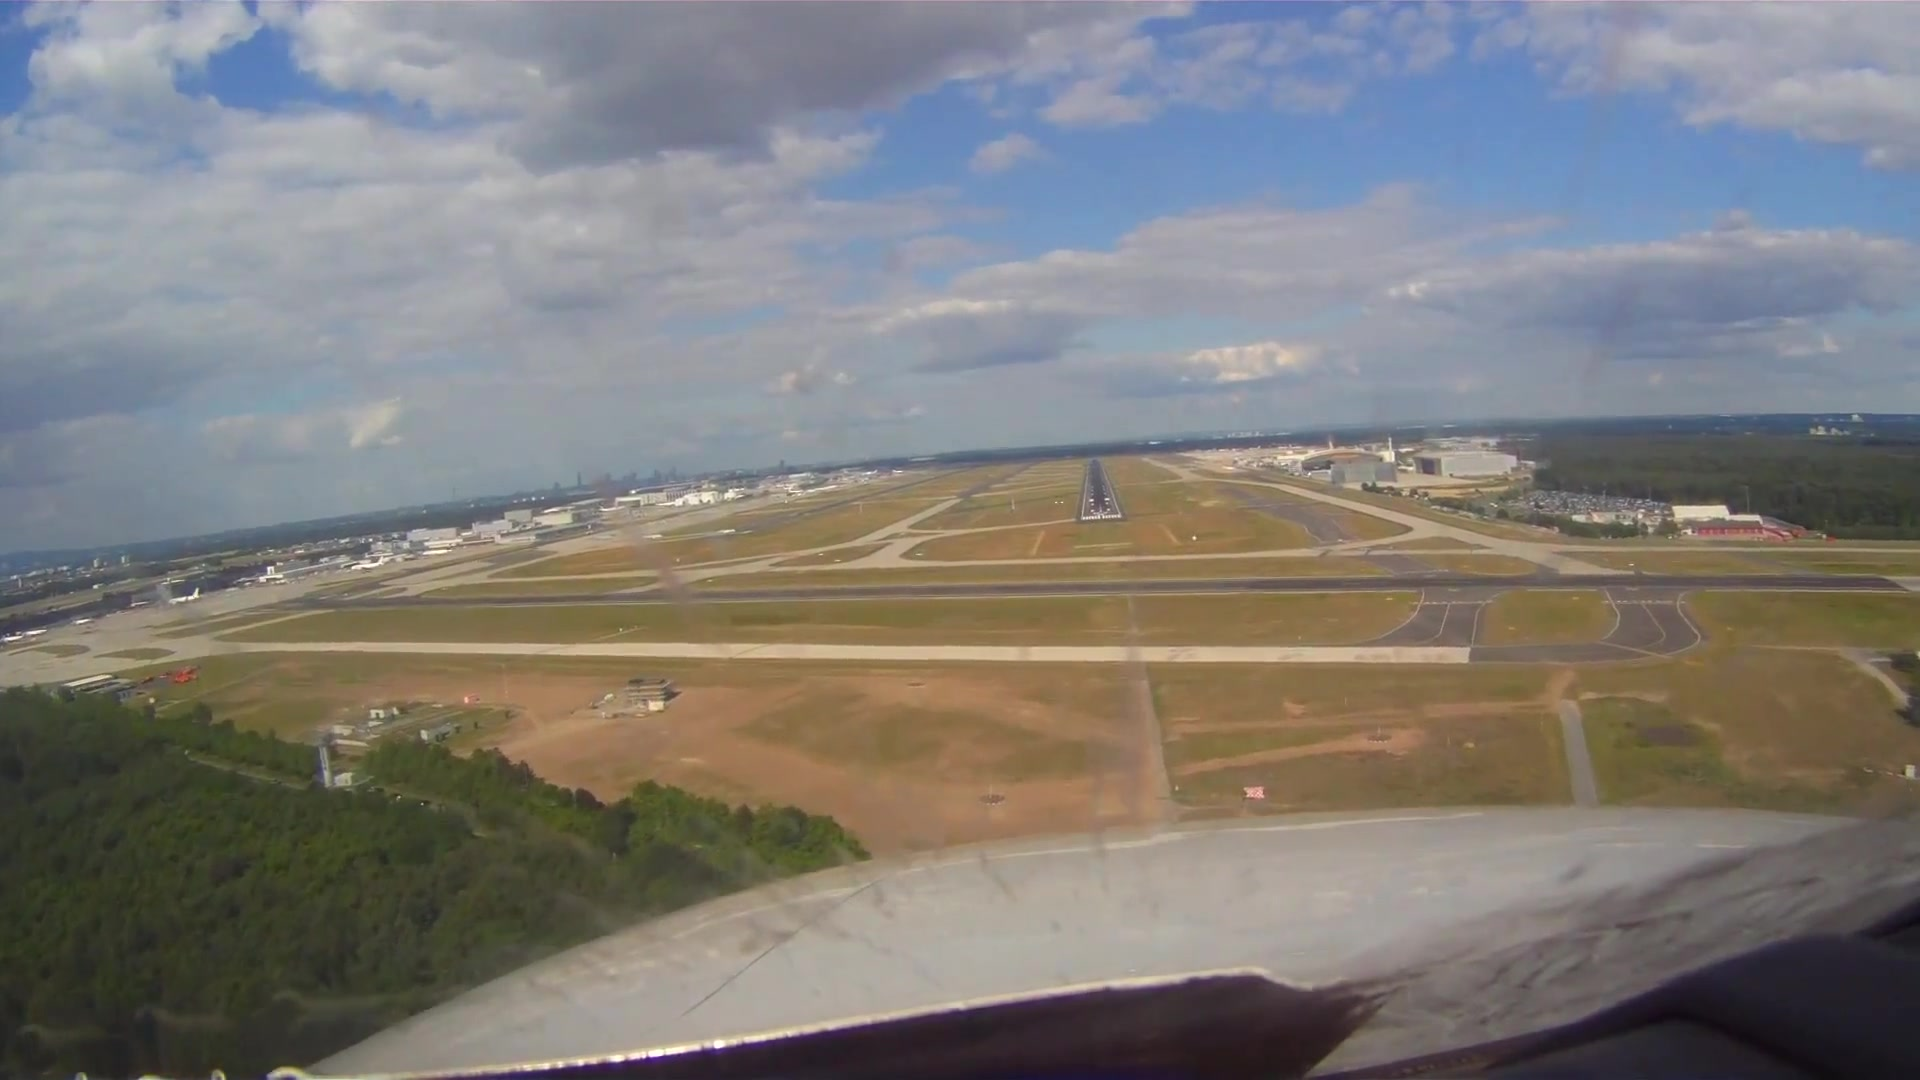entrance: (1079, 512, 1122, 520)
runway: (1069, 455, 1130, 520)
